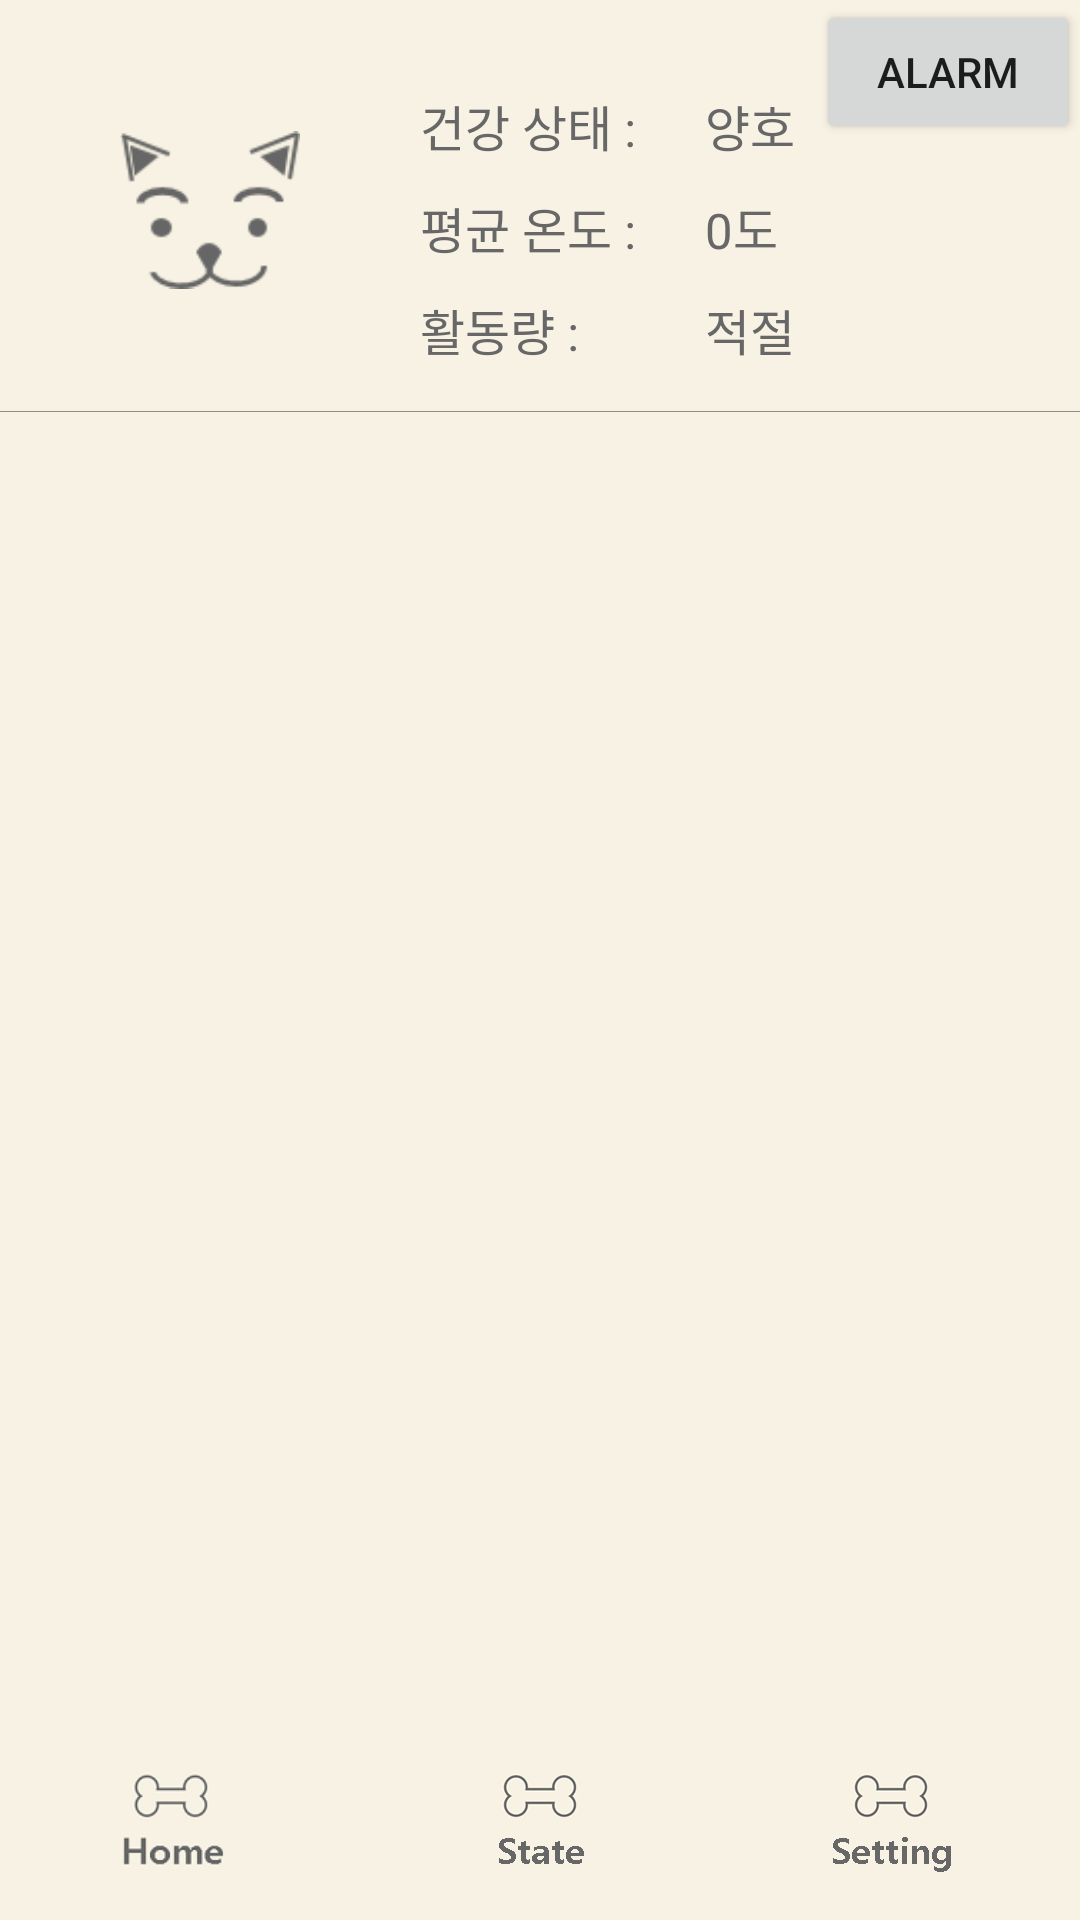

Locate icon controls on the screen. Image size 1080 × 1920, boxes as detection(x1, y1, x2, y2).
dog face: detection(121, 131, 300, 289)
